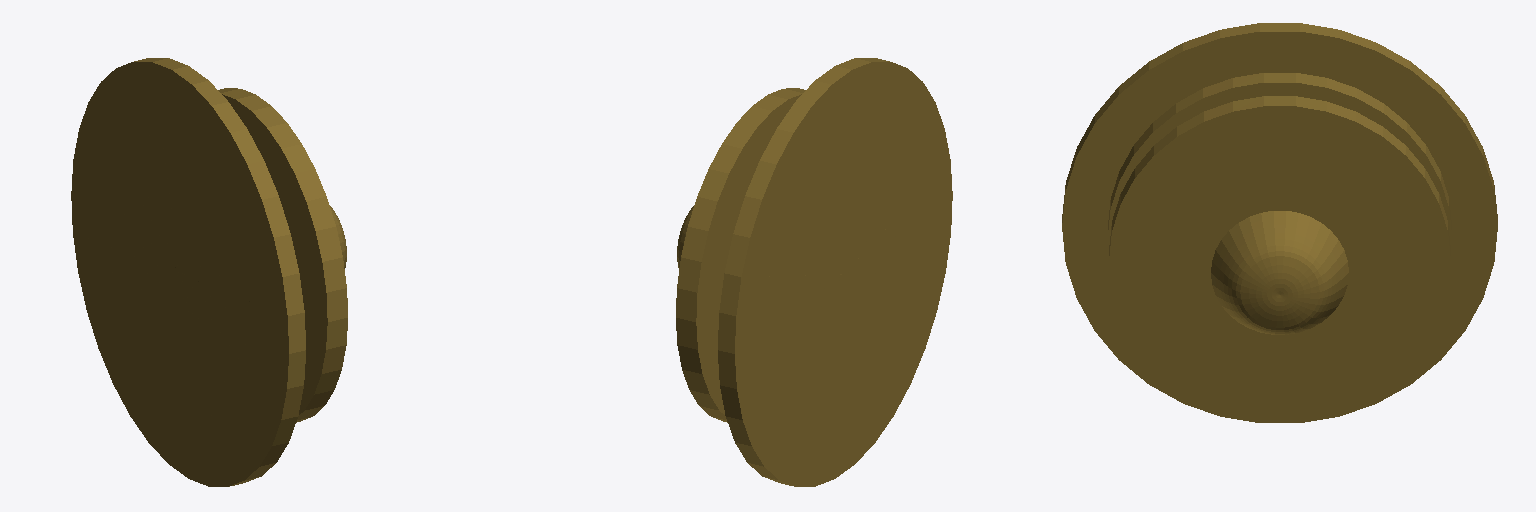
Rendered from cap.obj.
3 views of the same model, side by side, from view 1: azimuth 30°, elevation 25°; view 2: azimuth 150°, elevation 25°; view 3: azimuth 270°, elevation 25° (orthographic).
Parts seen in each view (by area): view 1: cap_Line011; view 2: cap_Line011; view 3: cap_Line011.
Boxes of the visible parts, x1,y1,x2,y2 form: cap_Line011: [71, 58, 347, 486]; cap_Line011: [676, 58, 952, 486]; cap_Line011: [1062, 23, 1497, 422].
Size of the model in its own units: 0.0484 by 0.1177 by 0.1182.